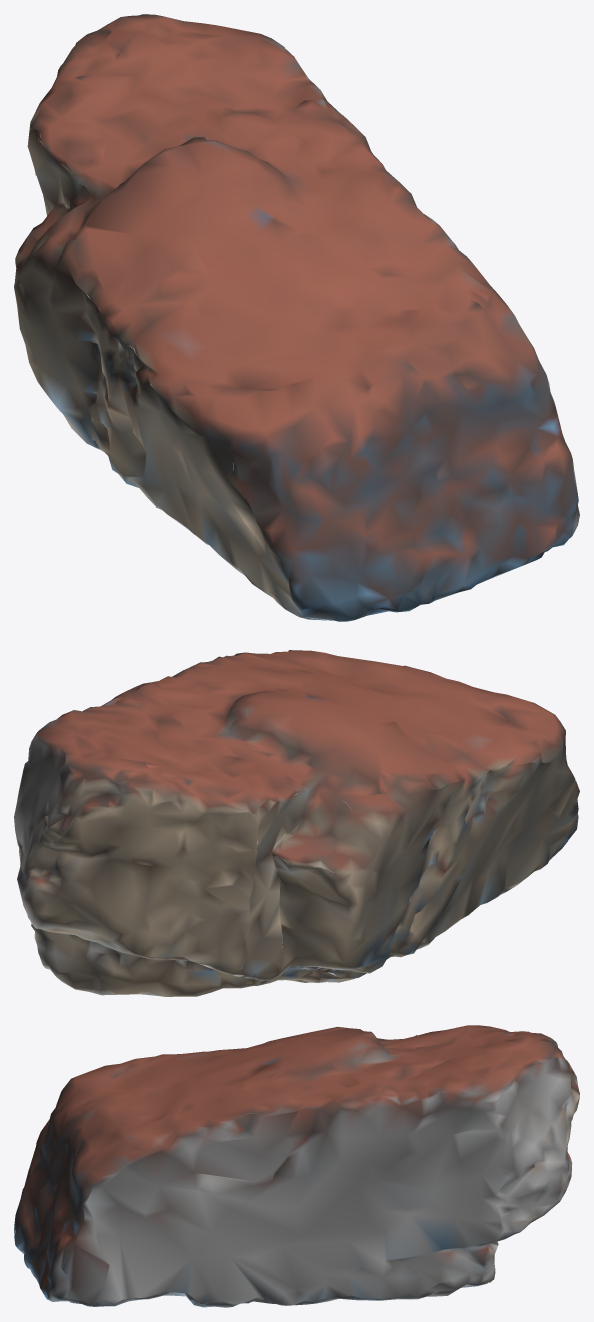
Rendered from rock_07.fbx.
3 renders of one model, top to bottom at view 1: azimuth 30°, elevation 25°; view 2: azimuth 150°, elevation 25°; view 3: azimuth 270°, elevation 25°, orthographic. The views are drawn at different scales.
Visible parts, largest first — view 1: rock_07; view 2: rock_07; view 3: rock_07.
Boxes of the visible parts, x1,y1,x2,y2 form: rock_07: (14,14,579,621); rock_07: (14,650,579,996); rock_07: (14,1025,579,1307).
Size of the model in its own units: 16.88 by 14.38 by 32.03.
